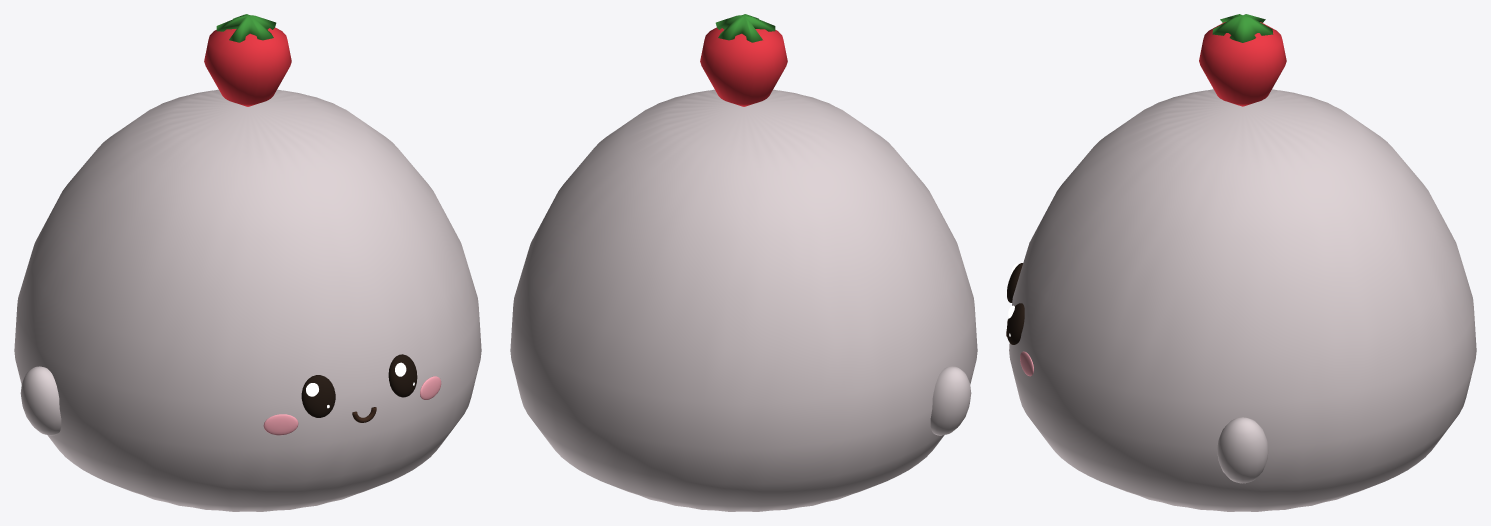
File: mochi.glb
The picture shows the model from 3 angles, left to right: view 1: azimuth 30°, elevation 25°; view 2: azimuth 150°, elevation 25°; view 3: azimuth 270°, elevation 25°; orthographic projection.
Parts seen in each view (by area): view 1: mochi; view 2: mochi; view 3: mochi.
Boxes of the visible parts, x1=… form: mochi: x1=14, y1=14, x2=481, y2=511; mochi: x1=510, y1=14, x2=977, y2=511; mochi: x1=1006, y1=14, x2=1476, y2=511.
Bounding box in the file's own units: 0.0883 × 0.0833 × 0.0804.
